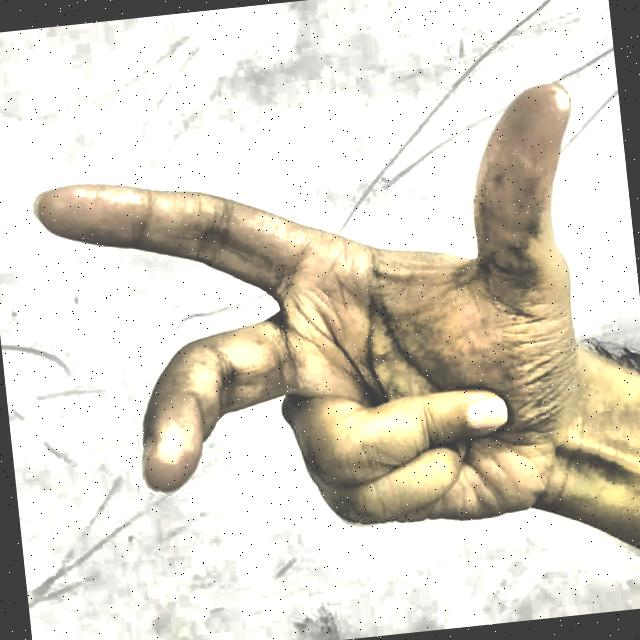Da: (5, 42, 637, 626)
